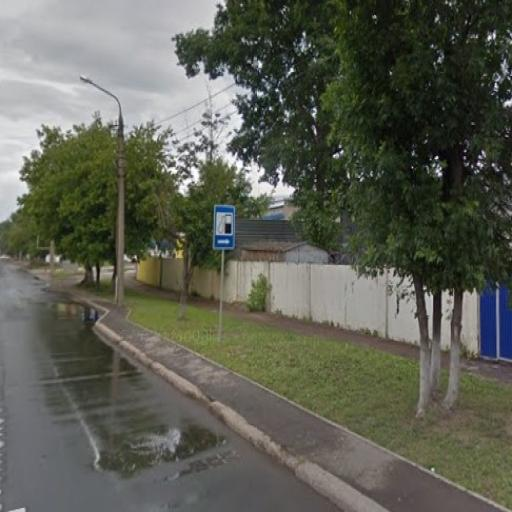traffic_sign: (211, 199, 240, 255)
